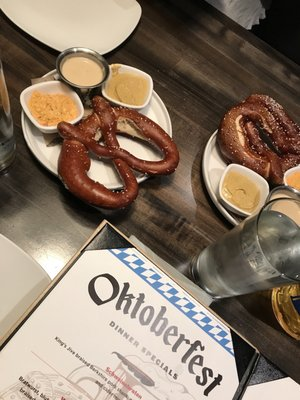pizza: (0, 54, 16, 175)
soup: (55, 95, 180, 211)
sushi: (20, 81, 84, 134)
